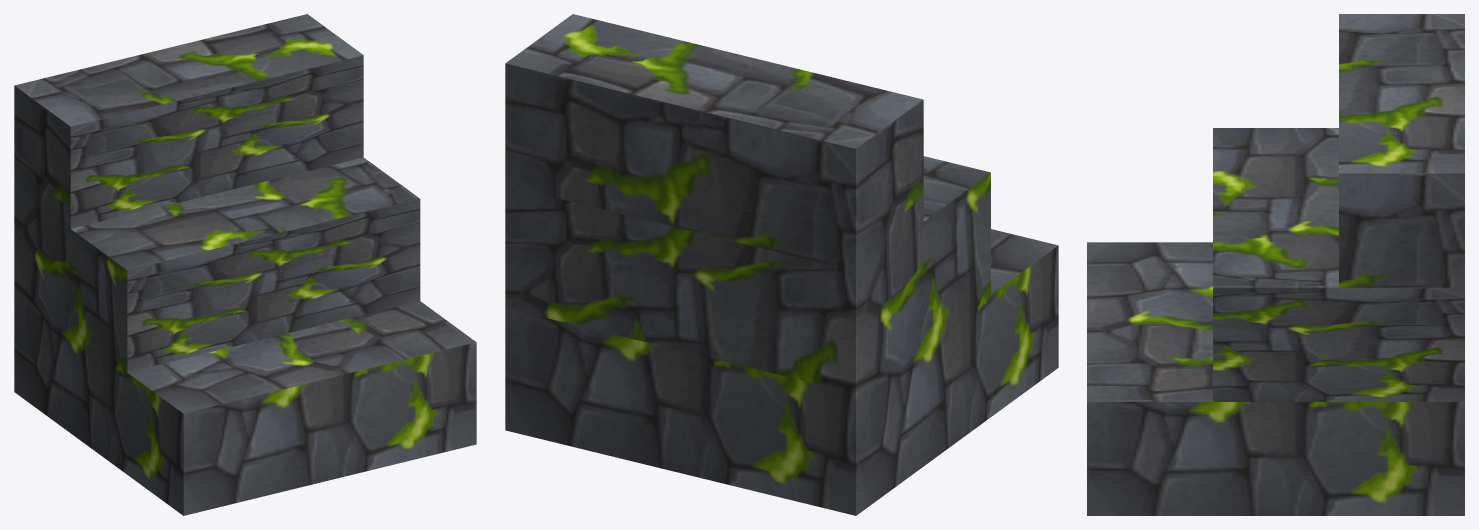
File: stair_moss.fbx
3 views of the same model, side by side, from view 1: azimuth 30°, elevation 25°; view 2: azimuth 150°, elevation 25°; view 3: azimuth 270°, elevation 25° (orthographic). The views are drawn at different scales.
Parts seen in each view (by area): view 1: Cube.005; view 2: Cube.005; view 3: Cube.005.
Boxes of the visible parts, bbox=[...] form: Cube.005: bbox=[14, 14, 476, 515]; Cube.005: bbox=[505, 14, 1058, 515]; Cube.005: bbox=[1087, 14, 1464, 515].
Bounding box in the file's own units: 2 × 2 × 2.
